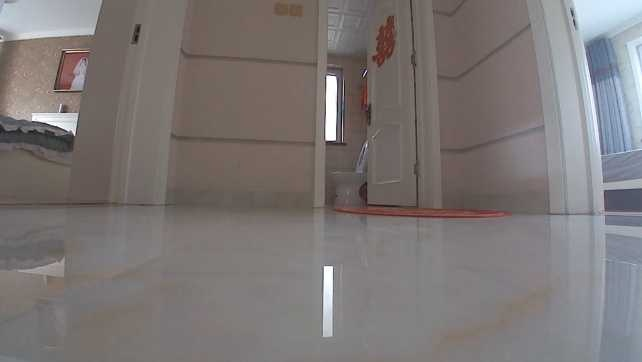bed: (0, 109, 78, 201)
blanket: (331, 205, 512, 218)
door_anno: (364, 0, 443, 210)
toilet: (330, 138, 369, 204)
